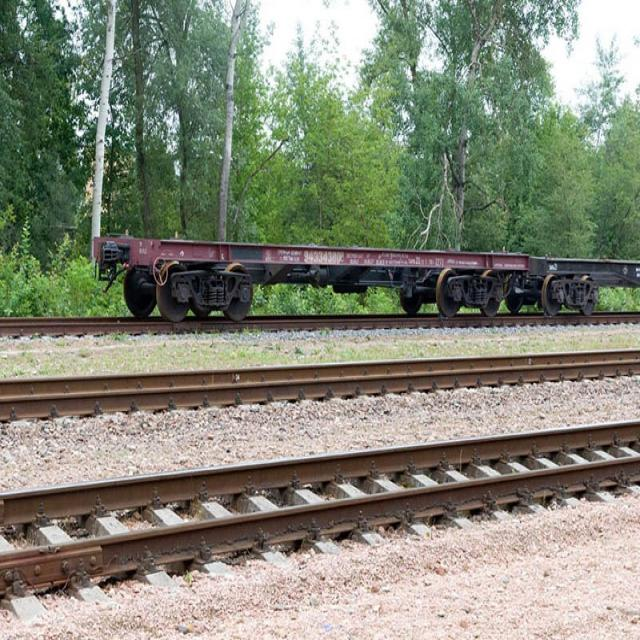flatcar: (89, 225, 533, 329), (532, 249, 640, 319)
